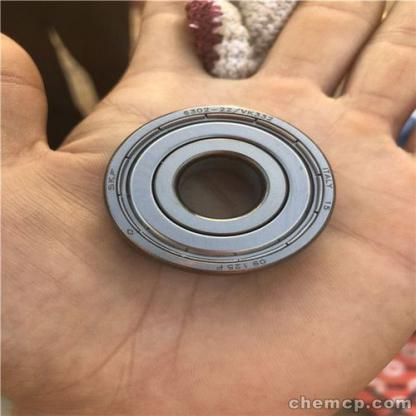FOD: (99, 99, 339, 279)
